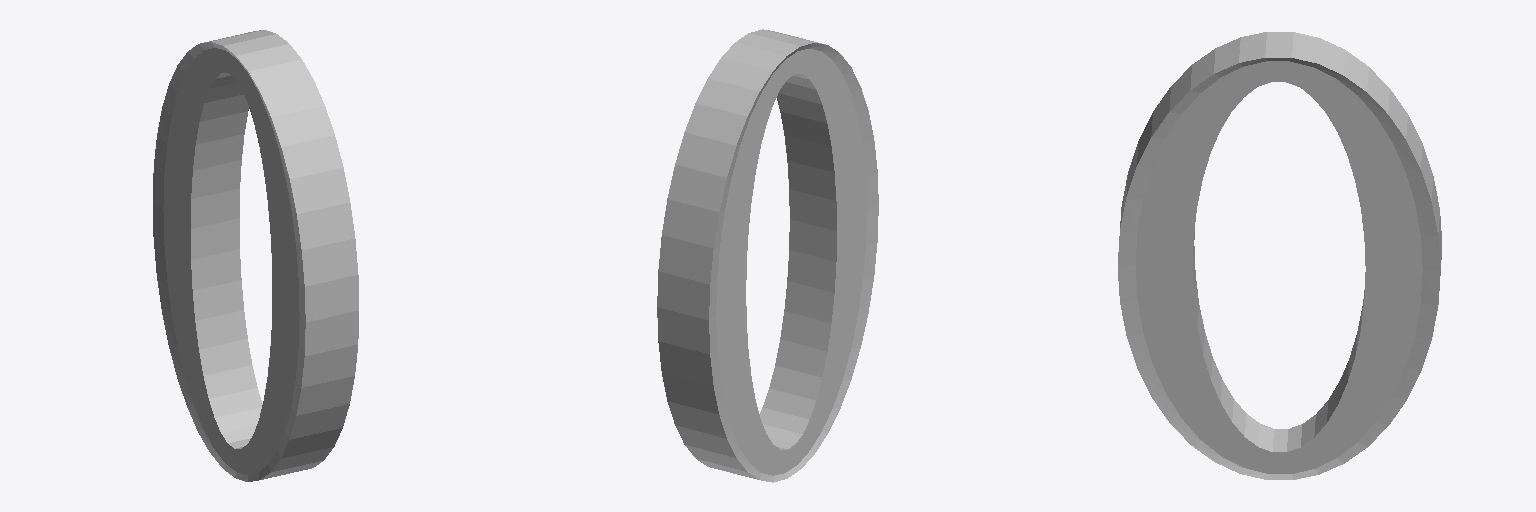
Rendered from letter6.obj.
3 renders of one model, left to right at view 1: azimuth 30°, elevation 25°; view 2: azimuth 150°, elevation 25°; view 3: azimuth 270°, elevation 25°, orthographic.
Visible parts, largest first — view 1: pCylinder1; view 2: pCylinder1; view 3: pCylinder1.
Boxes of the visible parts, <box> form: pCylinder1: <box>153,30,358,481</box>; pCylinder1: <box>657,29,878,482</box>; pCylinder1: <box>1118,32,1441,479</box>.
Size of the model in its own units: 0.8014 by 5.29 by 3.69.